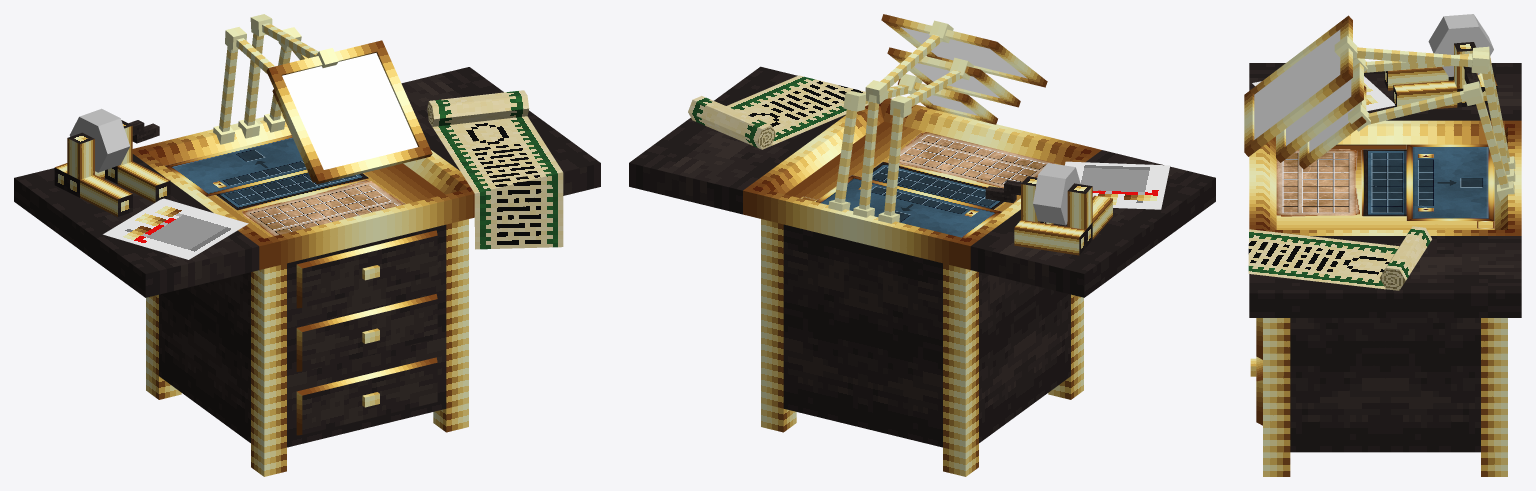
Rendered from crystal_workbench.obj.
The picture shows the model from 3 angles, left to right: view 1: azimuth 30°, elevation 25°; view 2: azimuth 150°, elevation 25°; view 3: azimuth 270°, elevation 25°; orthographic projection. The views are drawn at different scales.
Visible parts, largest first — view 1: desktop, lens_l, scroll, crafting_surface, grindstone_holder_grindstone, tools, grindstone_grindstone.001, arm_shoulder_m, arm_shoulder_l, arm_elbow_l, arm_elbow_m, arm_shoulder_s; view 2: desktop, crafting_surface, scroll, grindstone_holder_grindstone, lens_l, tools, lens_m, grindstone_grindstone.001, lens_s, arm_shoulder_l, arm_shoulder_m, arm_shoulder_s (+2 smaller); view 3: desktop, crafting_surface, scroll, lens_l, grindstone_holder_grindstone, lens_m, grindstone_grindstone.001, lens_s, arm_elbow_l, arm_elbow_s, arm_shoulder_s, arm_shoulder_l (+3 smaller).
Part boxes in pixels (box(x1,y1,x2,y2)): desktop: box(14, 67, 600, 476); lens_l: box(266, 40, 432, 184); scroll: box(427, 90, 563, 249); crafting_surface: box(165, 135, 405, 236); grindstone_holder_grindstone: box(54, 120, 170, 216); tools: box(103, 198, 248, 259); grindstone_grindstone.001: box(69, 108, 130, 172); arm_shoulder_m: box(213, 46, 237, 144); arm_shoulder_l: box(238, 33, 263, 138); arm_elbow_l: box(250, 14, 318, 58); arm_elbow_m: box(225, 27, 274, 74); arm_shoulder_s: box(263, 46, 291, 132); desktop: box(629, 66, 1215, 476); crafting_surface: box(801, 132, 1054, 238); scroll: box(688, 75, 868, 149); grindstone_holder_grindstone: box(985, 176, 1112, 255); lens_l: box(881, 14, 1047, 87); tools: box(1065, 161, 1170, 209); lens_m: box(887, 47, 1020, 107); grindstone_grindstone.001: box(1033, 163, 1080, 225); lens_s: box(897, 74, 997, 124); arm_shoulder_l: box(853, 94, 878, 217); arm_shoulder_m: box(878, 108, 903, 223); arm_shoulder_s: box(828, 101, 856, 211); desktop: box(1249, 63, 1521, 476); crafting_surface: box(1276, 144, 1494, 228); scroll: box(1248, 226, 1431, 290); lens_l: box(1244, 15, 1357, 156); grindstone_holder_grindstone: box(1384, 42, 1497, 109); lens_m: box(1276, 58, 1367, 162); grindstone_grindstone.001: box(1428, 14, 1493, 76); lens_s: box(1299, 85, 1370, 169); arm_elbow_l: box(1353, 47, 1489, 73); arm_elbow_s: box(1368, 81, 1483, 124); arm_shoulder_s: box(1476, 91, 1514, 201); arm_shoulder_l: box(1482, 64, 1515, 184).
Bounding box in the file's own units: 1.97 × 1.54 × 1.
